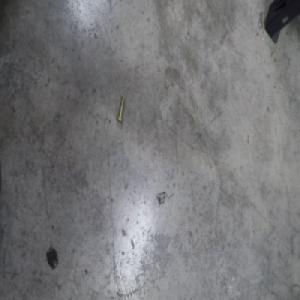Bolt: (116, 95, 126, 123)
